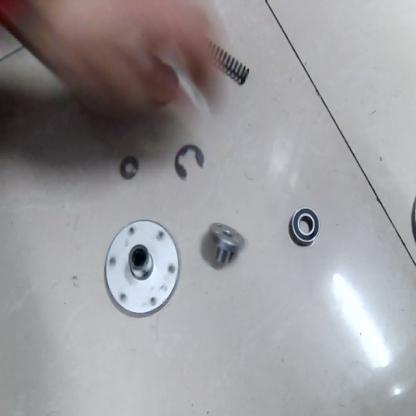FOD: (102, 217, 183, 321), (194, 23, 252, 84), (205, 221, 244, 269), (288, 203, 323, 244), (173, 143, 208, 179), (118, 154, 140, 181)
